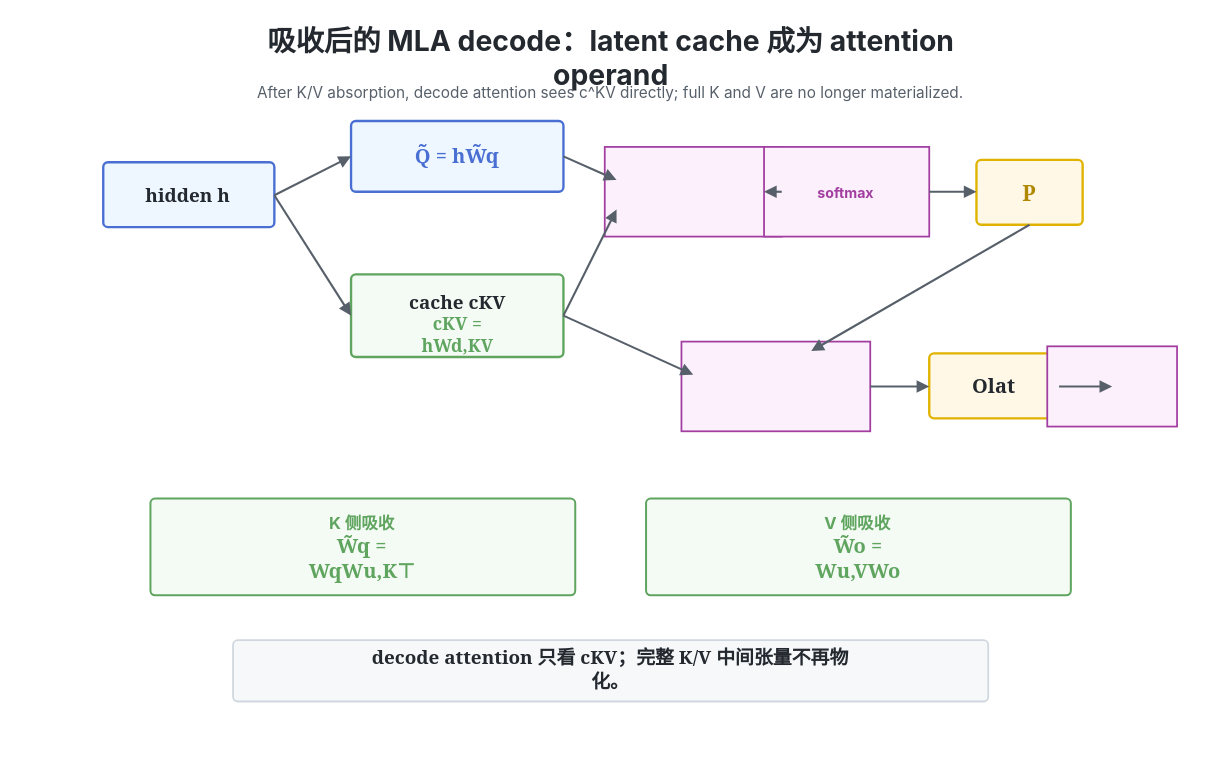
The diagram is 1220 pixels wide and 760 high, and some of its shapes have lost their labels. The centre of each missing label's shape, as x and y in pixels:
"PcKV" goes at pixel 775 386.
"Q̃(cKV)⊤" goes at pixel 692 191.
"W̃o" goes at pixel 1111 386.
